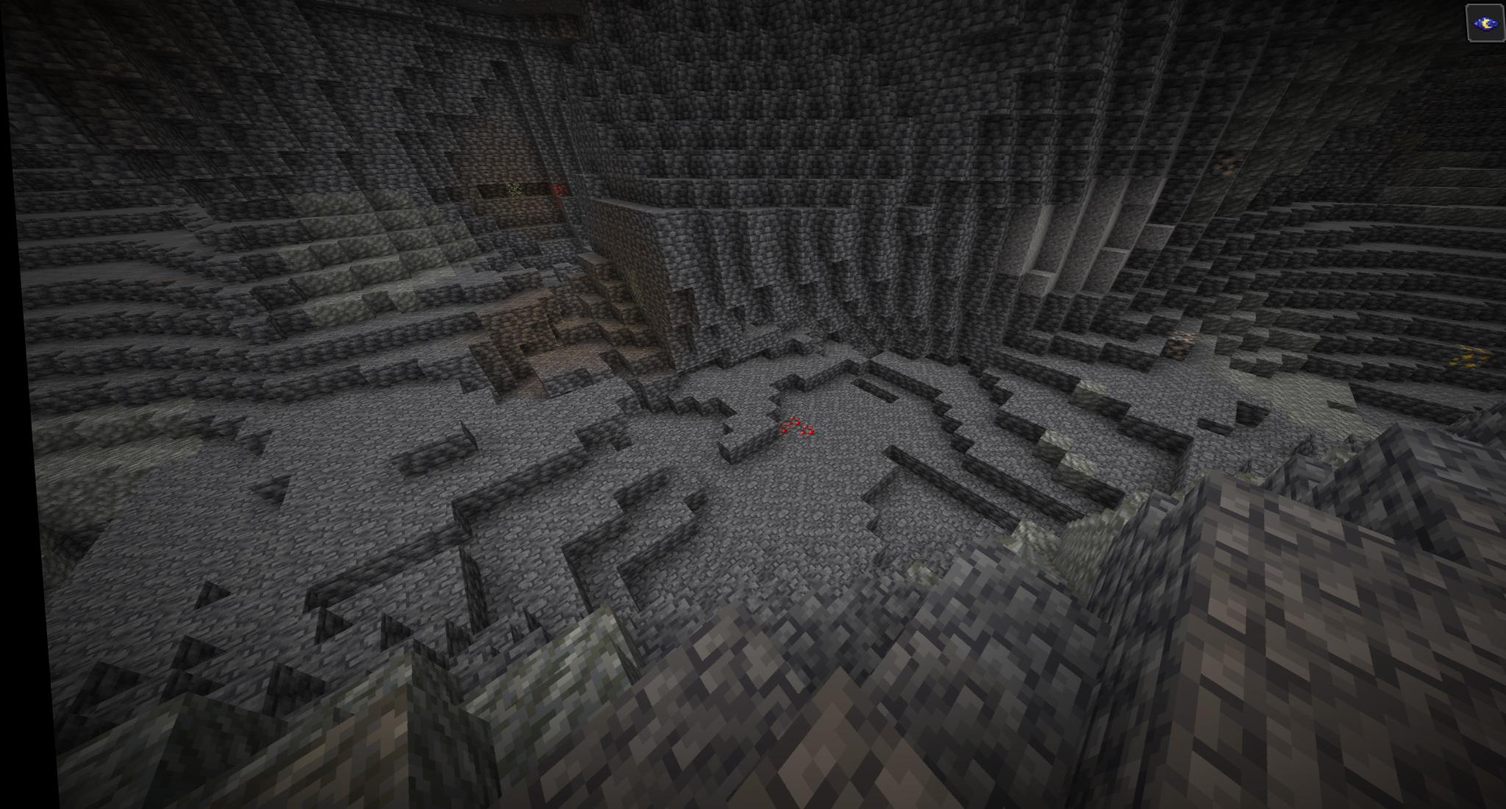gold ore: (1447, 341, 1489, 379)
iron ore: (1158, 328, 1198, 367), (1203, 151, 1252, 180)
redstone ore: (772, 414, 809, 440), (540, 180, 569, 205)
